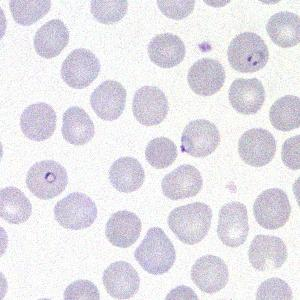Infected: (227, 32, 269, 73), (25, 159, 67, 200), (181, 119, 220, 157)
Uninfected: (165, 202, 213, 244), (135, 228, 176, 273), (54, 192, 98, 230), (61, 49, 101, 88), (252, 188, 290, 229), (190, 255, 229, 294), (90, 81, 128, 120), (238, 128, 276, 167), (161, 165, 203, 200), (20, 103, 58, 141), (131, 86, 168, 125), (216, 202, 249, 245), (188, 58, 226, 95), (249, 234, 287, 271), (102, 261, 140, 298), (105, 211, 142, 248), (228, 78, 265, 114), (147, 33, 185, 68), (34, 19, 69, 57), (108, 157, 144, 193), (61, 107, 95, 145), (266, 11, 300, 46), (1, 186, 32, 223), (269, 95, 300, 131), (10, 1, 51, 26), (145, 138, 178, 169), (90, 0, 127, 23), (157, 0, 195, 20), (255, 278, 291, 299), (64, 280, 100, 300), (281, 134, 300, 170)
